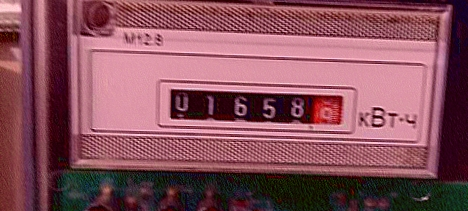0: (172, 91, 190, 112)
1: (202, 93, 217, 117)
5: (260, 96, 277, 120)
6: (231, 94, 250, 119)
8: (288, 96, 306, 119)
9: (317, 105, 334, 126)
screen: (153, 77, 360, 139)
